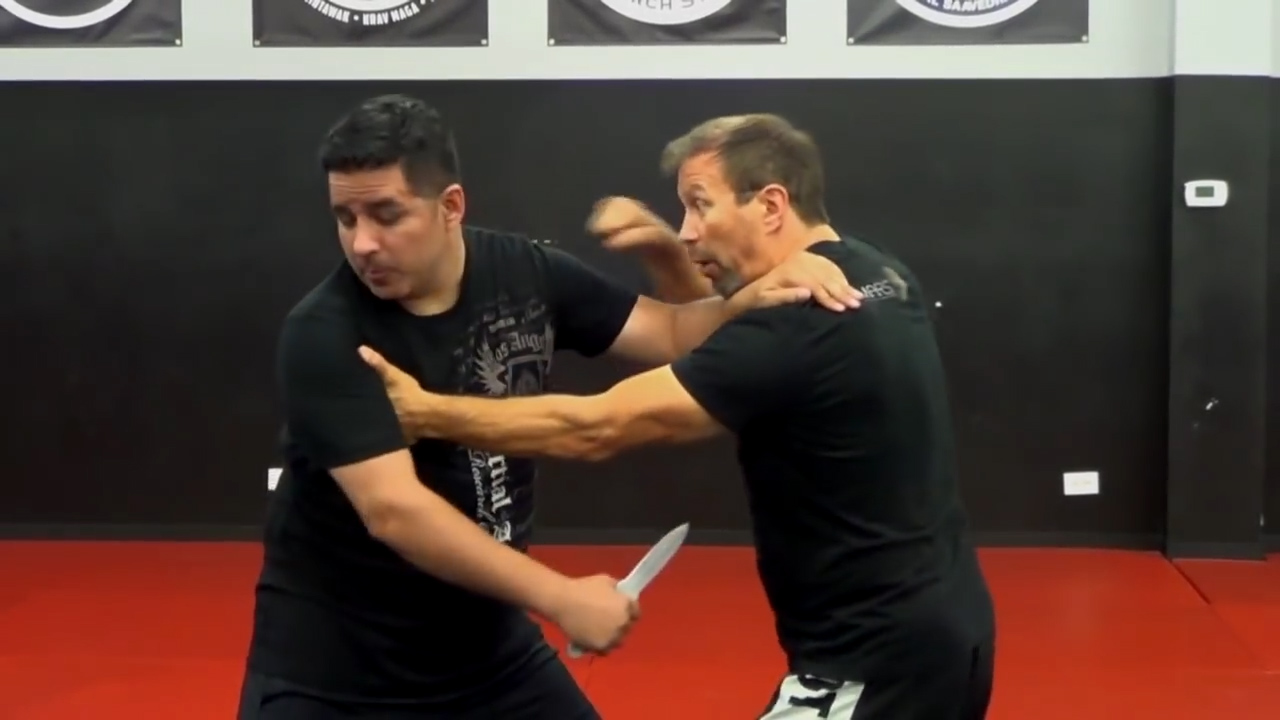knife: (559, 513, 693, 665)
